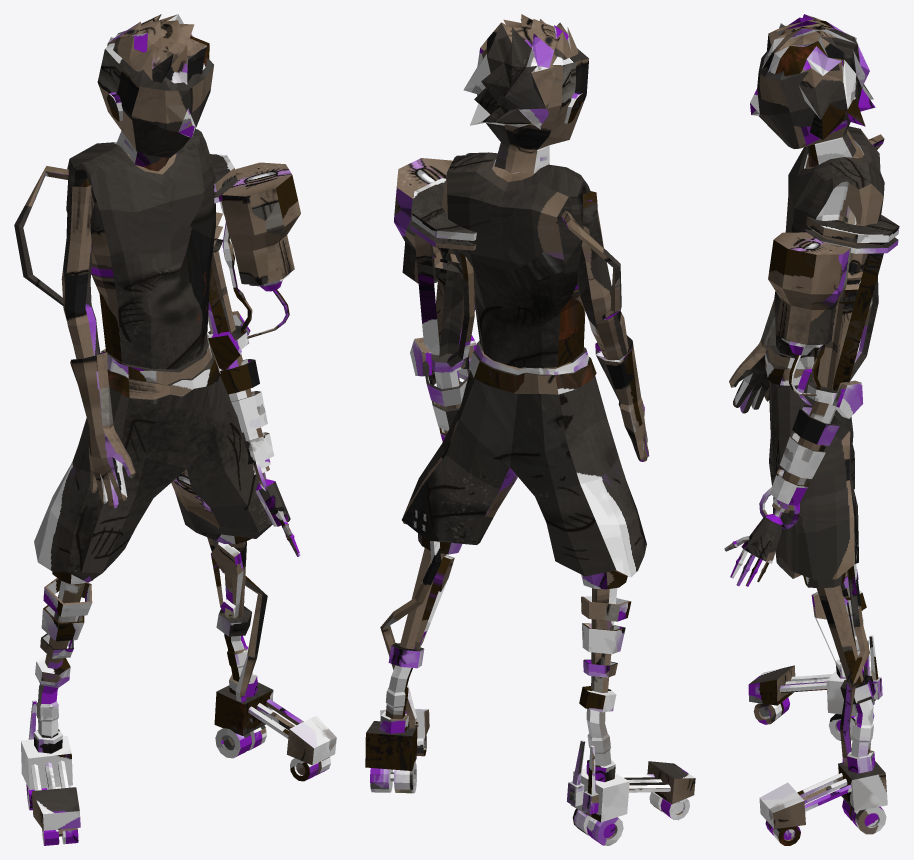
Rendered from CyborgFINALAnimation_000044.obj.
The picture shows the model from 3 angles, left to right: view 1: azimuth 30°, elevation 25°; view 2: azimuth 150°, elevation 25°; view 3: azimuth 270°, elevation 25°; orthographic projection. The views are drawn at different scales.
Parts seen in each view (by area): view 1: CyborgMesh_Cube.002; view 2: CyborgMesh_Cube.002; view 3: CyborgMesh_Cube.002.
Boxes of the visible parts, x1=… form: CyborgMesh_Cube.002: x1=14, y1=14, x2=336, y2=845; CyborgMesh_Cube.002: x1=365, y1=14, x2=695, y2=845; CyborgMesh_Cube.002: x1=724, y1=14, x2=899, y2=845.
Bounding box in the file's own units: 3.86 × 9.65 × 2.03.
